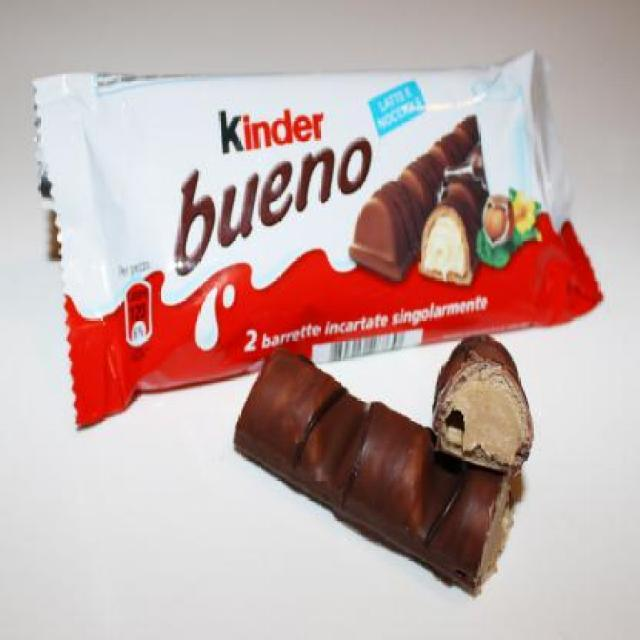Chocolate bar: (28, 46, 606, 428)
Chocolate bar packaged: (232, 347, 514, 618), (428, 334, 537, 476)
